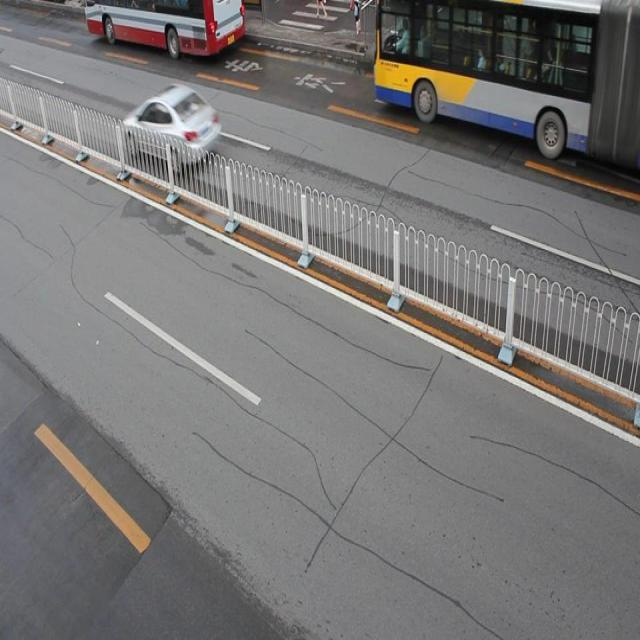car: (124, 83, 222, 172)
van: (372, 1, 640, 166), (85, 1, 244, 58)
